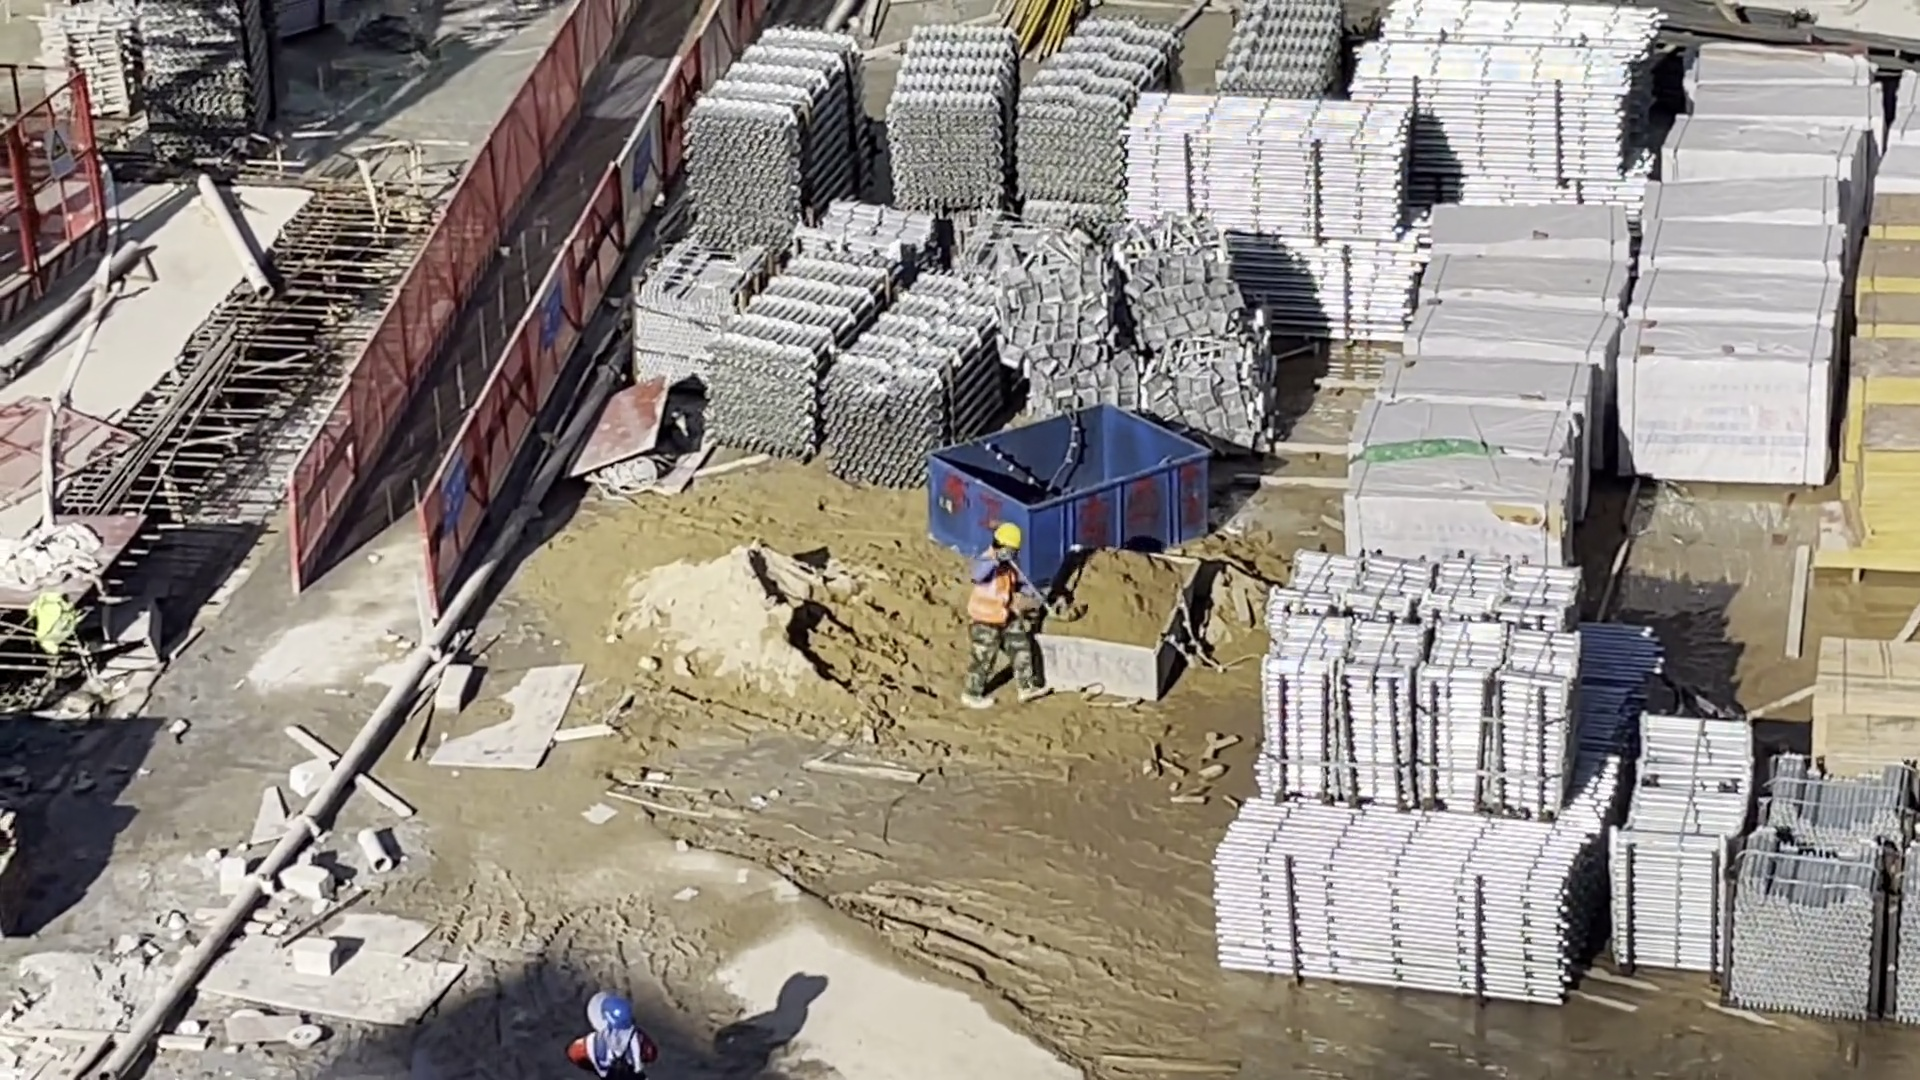board: (1838, 193, 1920, 565), (1812, 635, 1920, 761)
fence: (302, 4, 732, 579)
helmet: (602, 994, 631, 1032), (995, 521, 1024, 549)
hopper: (931, 403, 1209, 589), (1033, 550, 1200, 697)
person: (969, 530, 1051, 704), (571, 999, 654, 1080)
scaffold: (1265, 551, 1581, 812), (1209, 797, 1601, 997), (1128, 95, 1412, 331), (723, 270, 996, 473), (888, 23, 1171, 214), (1732, 762, 1920, 1012), (1351, 43, 1640, 199), (681, 18, 863, 241), (1617, 718, 1743, 969), (138, 1, 265, 149), (1228, 3, 1347, 104), (36, 14, 131, 120)
slogan: (442, 447, 465, 527), (539, 272, 562, 354)
vest: (970, 573, 1019, 629), (593, 1033, 644, 1072)
